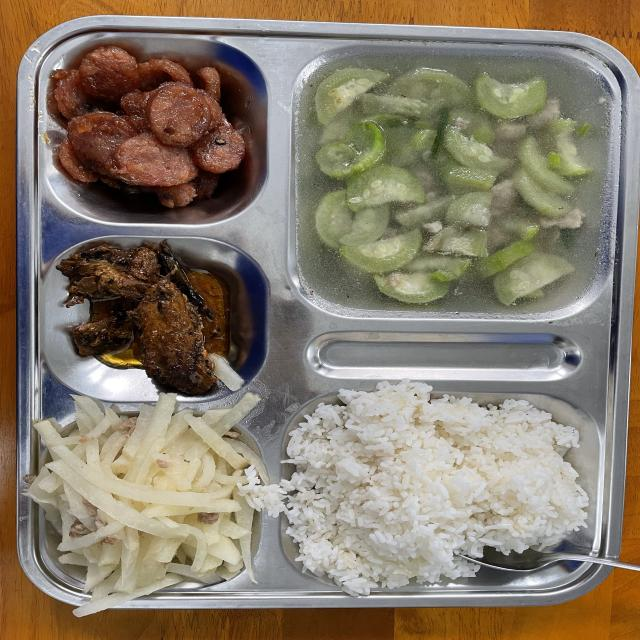com_trang: (323, 414, 556, 526)
